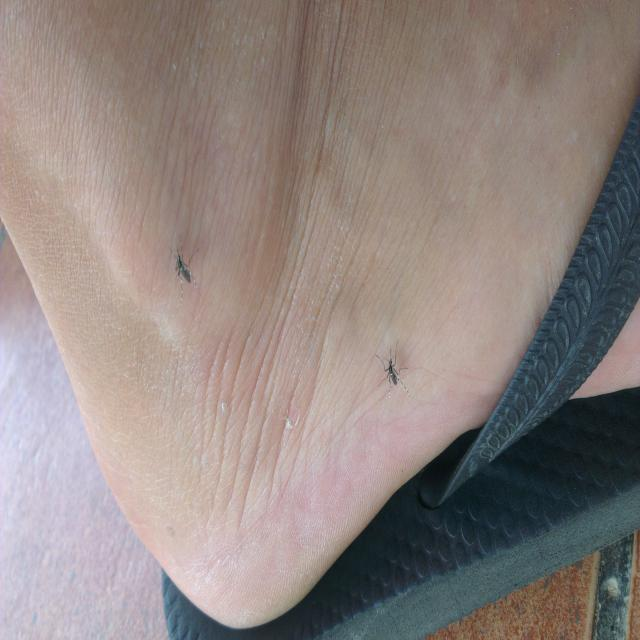albopictus: (374, 338, 414, 403)
